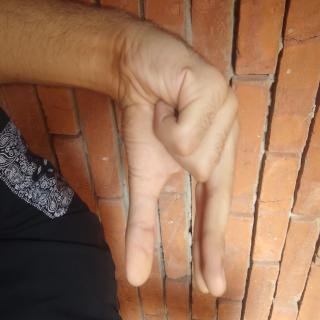DHELL: (9, 104, 230, 279)
